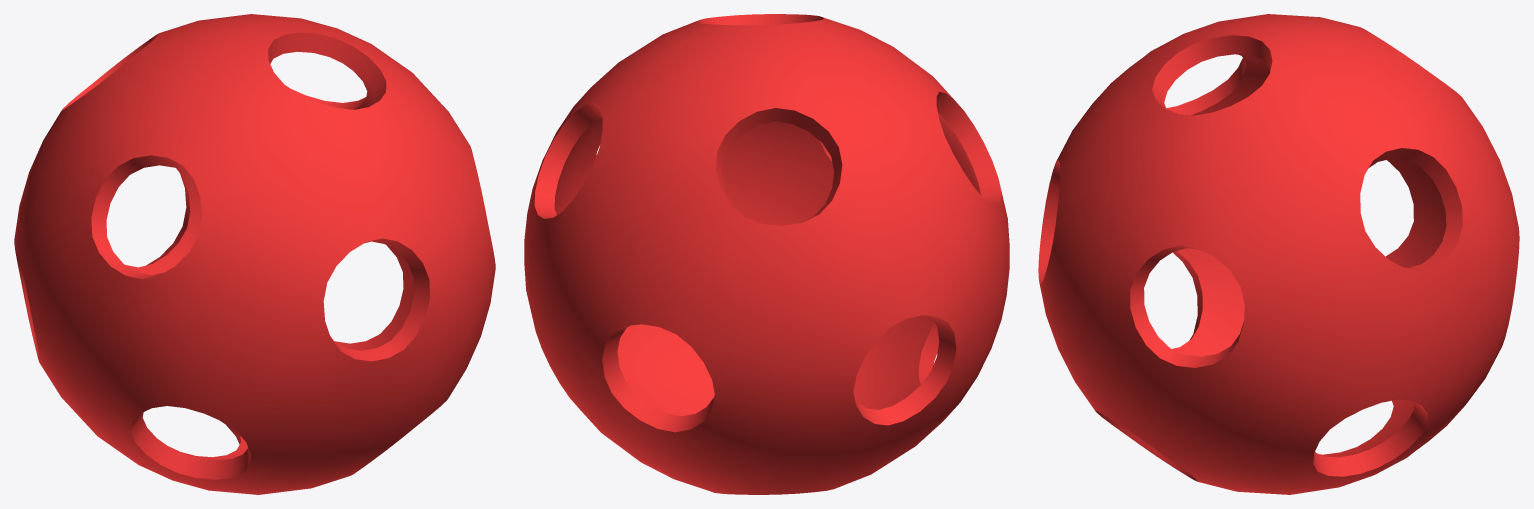
The model's file is Pickleball_Red.fbx.
The picture shows the model from 3 angles, left to right: view 1: azimuth 30°, elevation 25°; view 2: azimuth 150°, elevation 25°; view 3: azimuth 270°, elevation 25°; orthographic projection.
Visible parts, largest first — view 1: Pickleball_Red; view 2: Pickleball_Red; view 3: Pickleball_Red.
Boxes of the visible parts, <box> form: Pickleball_Red: <box>14,14,495,494</box>; Pickleball_Red: <box>524,14,1009,494</box>; Pickleball_Red: <box>1038,14,1519,494</box>.
Size of the model in its own units: 92.7 by 92.6 by 92.6.
